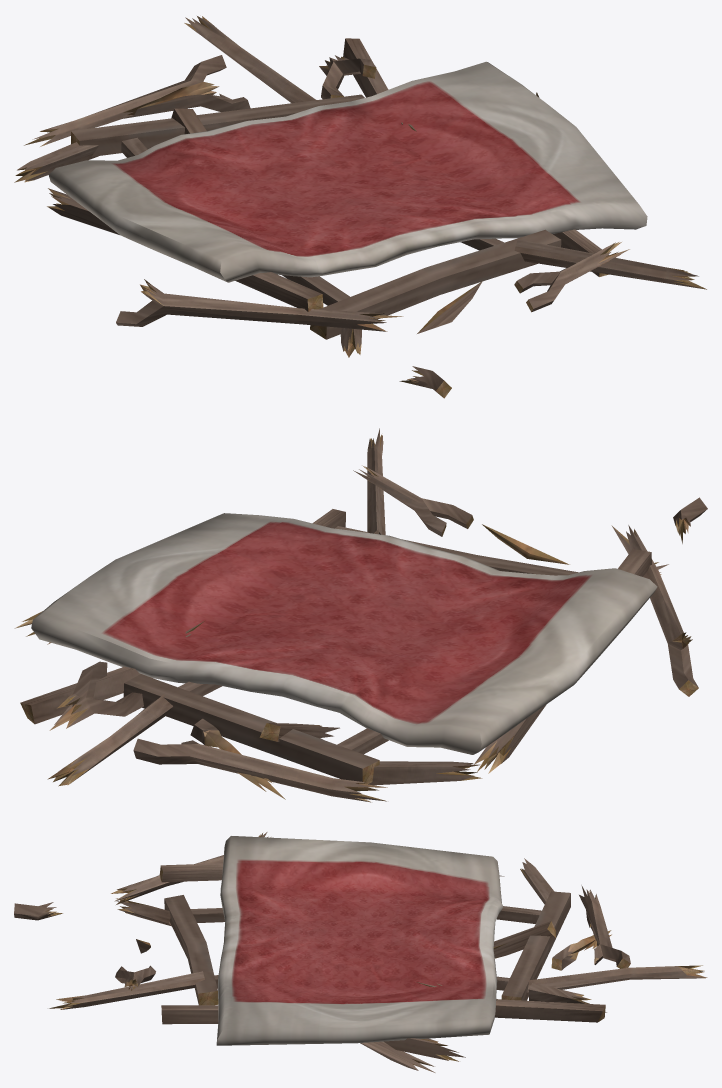
The model's file is handan_field_a_e01f.fbx.
3 renders of one model, top to bottom at view 1: azimuth 30°, elevation 25°; view 2: azimuth 150°, elevation 25°; view 3: azimuth 270°, elevation 25°, orthographic. The views are drawn at different scales.
Parts seen in each view (by area): view 1: handan_field_a_e01f1; view 2: handan_field_a_e01f1; view 3: handan_field_a_e01f1.
Part boxes in pixels (x1,y1,x2,y2): handan_field_a_e01f1: (14, 16, 706, 398); handan_field_a_e01f1: (14, 428, 707, 802); handan_field_a_e01f1: (14, 832, 707, 1072).
Bounding box in the file's own units: 424 × 63.49 × 592.
